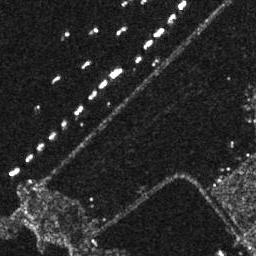ship: (107, 67, 124, 79), (153, 26, 165, 38), (73, 104, 84, 116), (176, 1, 189, 11), (116, 26, 127, 36), (88, 26, 99, 36), (98, 79, 108, 89), (143, 39, 153, 49), (25, 152, 34, 163), (168, 13, 177, 24), (8, 168, 20, 176), (48, 131, 57, 141), (88, 89, 97, 99), (81, 60, 91, 69), (36, 142, 44, 151), (61, 120, 69, 129), (52, 75, 60, 83), (135, 55, 142, 64)
